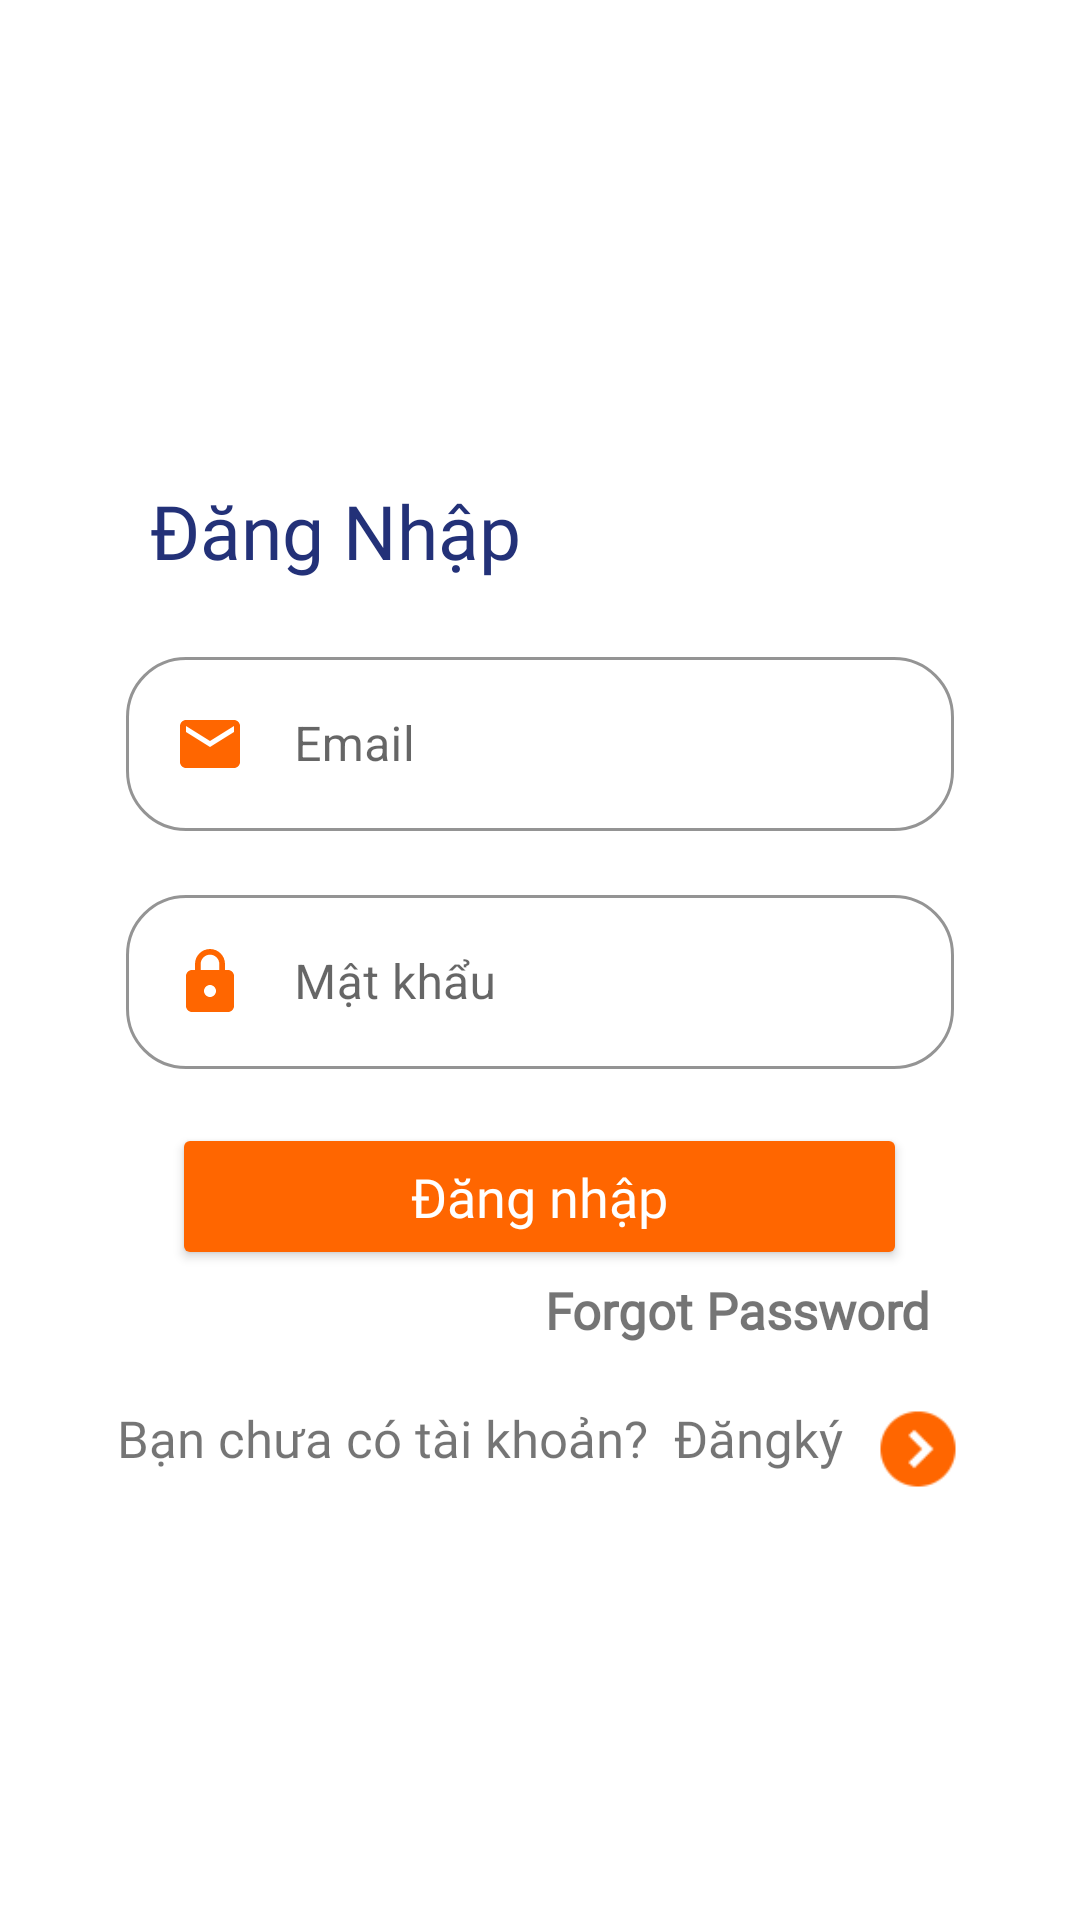

Named icons in this screenshot (1080px×1920px) and their centers, (x,y):
next page: (918,1449)
